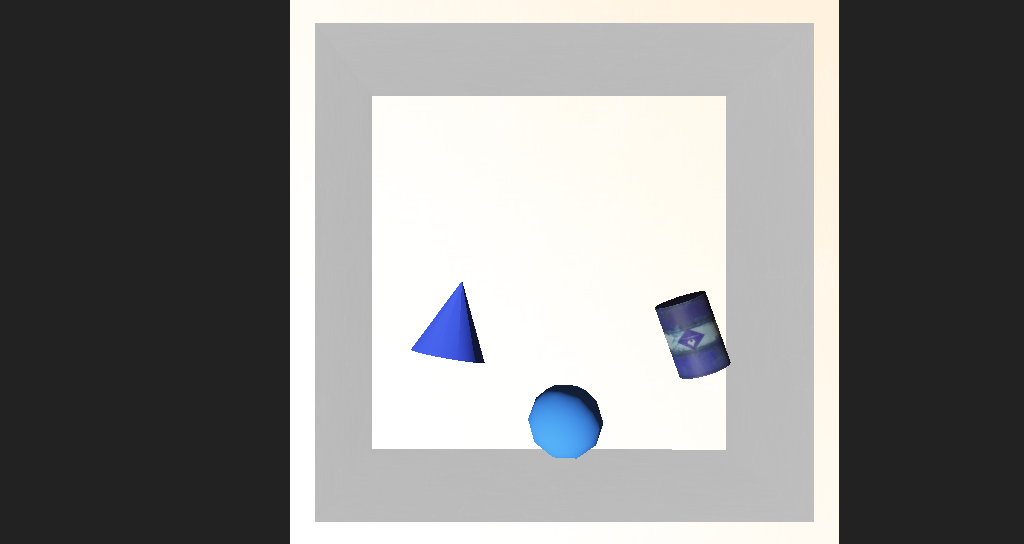cone: (593, 277, 660, 334)
cylinder: (374, 267, 475, 324)
sphere: (485, 336, 552, 379)
